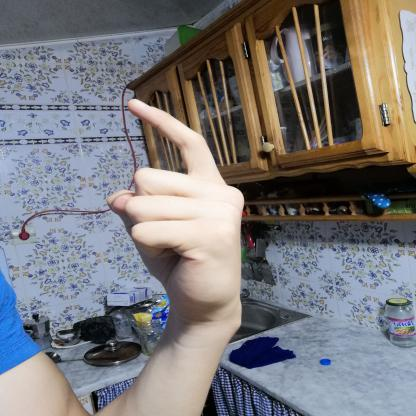RAA: (93, 91, 262, 327)
